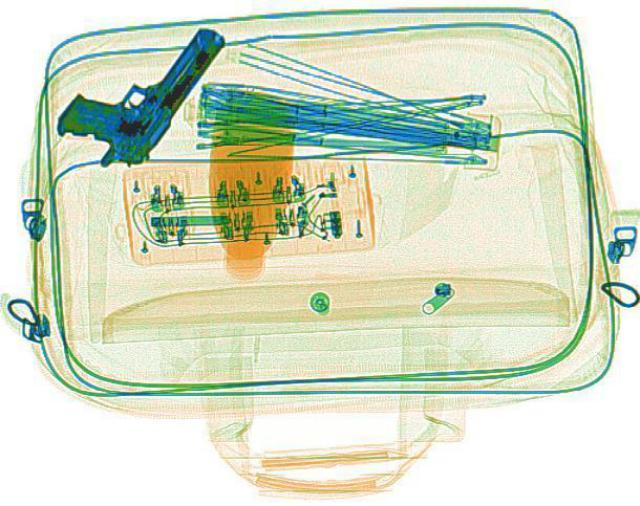Gun: (39, 0, 235, 175)
